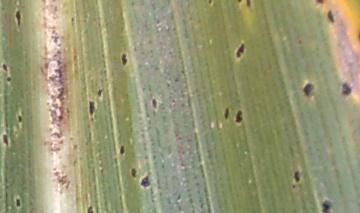tarspot: (339, 81, 352, 97), (303, 82, 315, 99), (236, 40, 244, 60), (140, 175, 152, 188), (15, 9, 22, 29), (1, 133, 11, 147), (326, 9, 335, 24), (88, 100, 96, 116), (322, 199, 331, 213), (120, 51, 128, 65), (235, 111, 243, 124), (130, 166, 137, 180), (223, 107, 230, 120), (118, 145, 126, 156), (294, 170, 301, 182), (152, 98, 158, 111), (96, 88, 104, 97), (69, 14, 76, 24), (15, 197, 22, 207), (1, 63, 9, 71), (245, 1, 252, 9), (86, 205, 93, 213), (17, 114, 23, 123), (6, 75, 12, 82), (290, 183, 297, 189), (207, 1, 213, 7), (315, 1, 325, 4), (237, 1, 243, 4)
